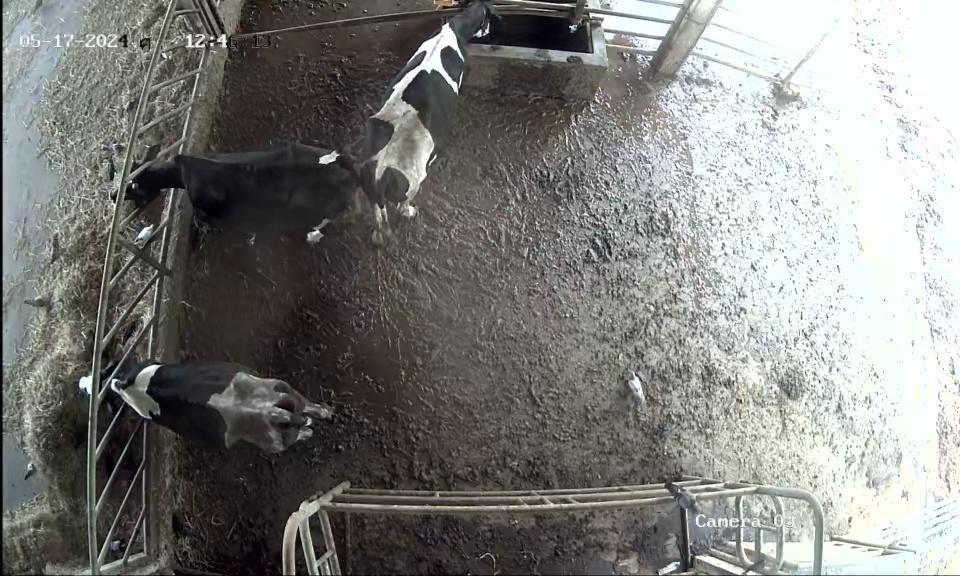drink: (436, 0, 519, 100)
eat: (85, 143, 222, 223), (58, 348, 173, 423)
